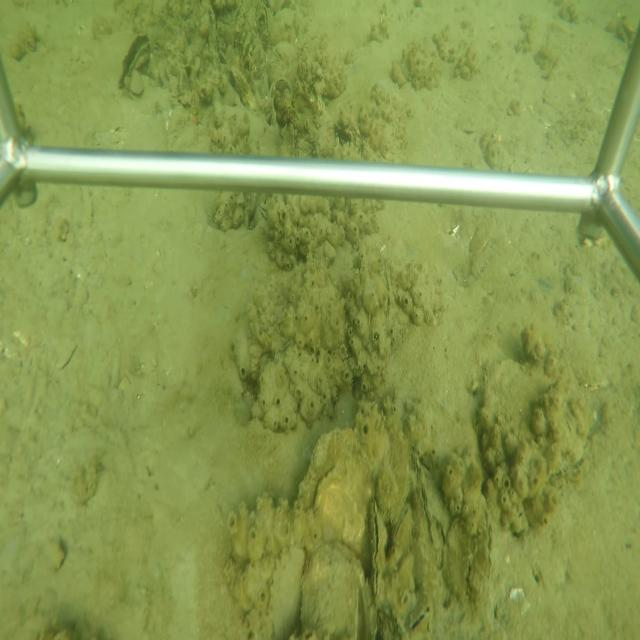Oyster-Closed: (413, 445, 436, 565), (368, 498, 388, 601), (392, 503, 415, 551)
Oyster-Indeterminate: (480, 357, 595, 499), (292, 426, 375, 556), (298, 534, 379, 636)
Oyster-Open: (119, 31, 152, 89)
